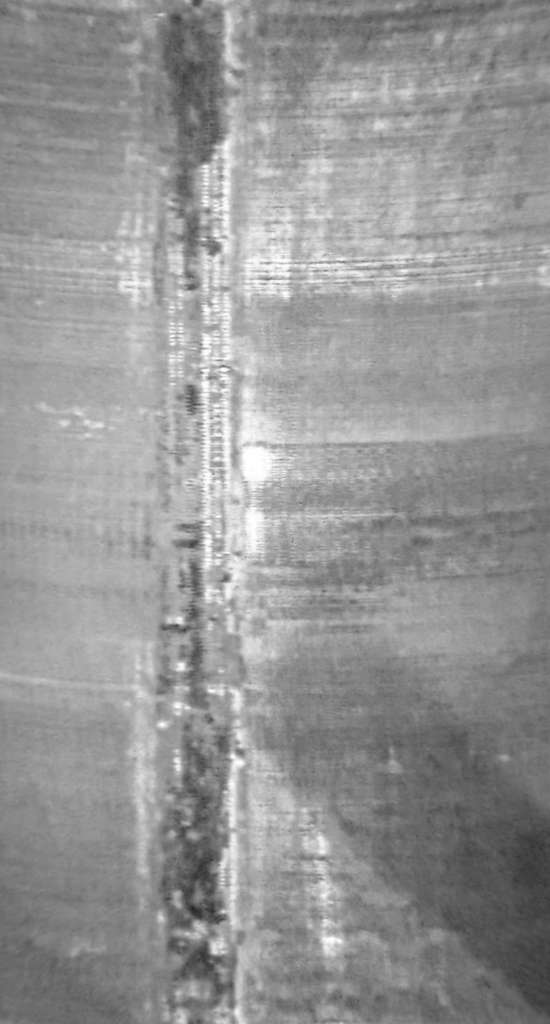splice: (135, 1, 249, 1024)
